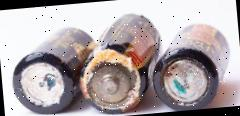electronic: (5, 20, 99, 116), (150, 4, 229, 113), (82, 8, 154, 116)
